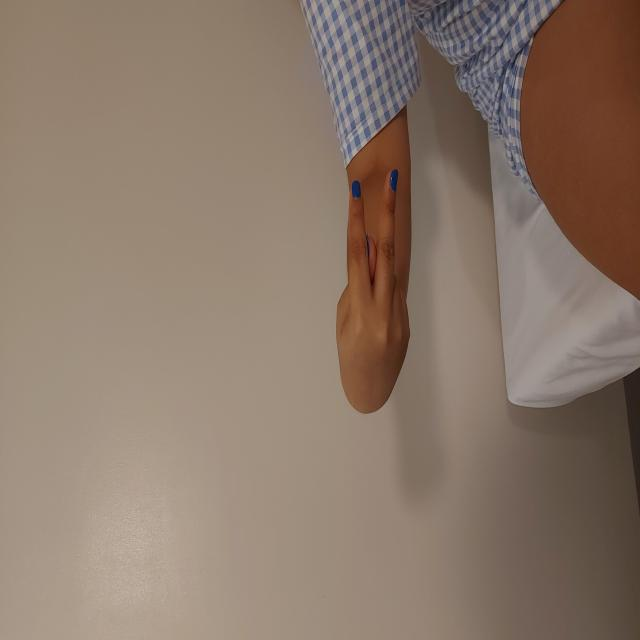K: (224, 334, 473, 411)
